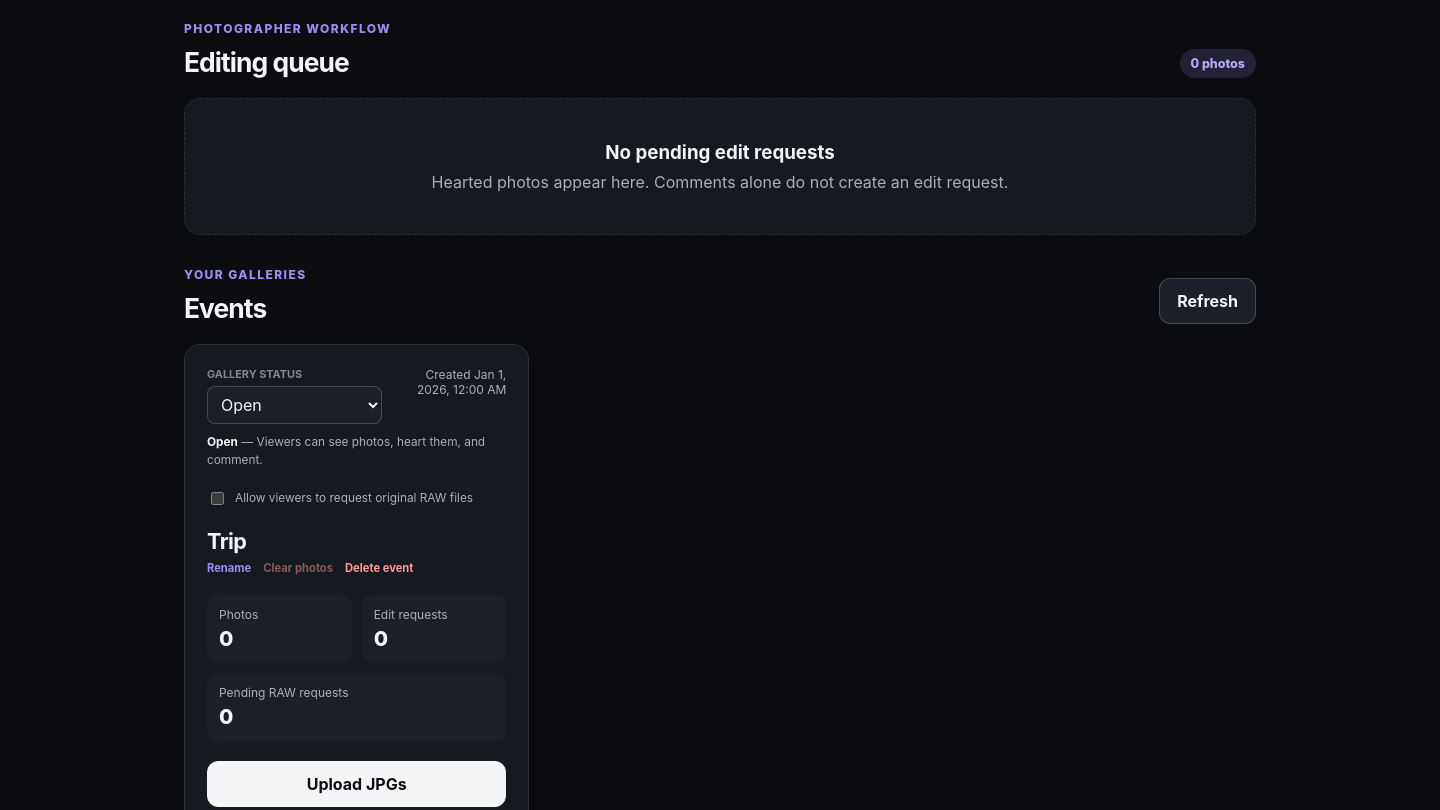
Scenario: DashboardPage › archives once the user confirms, sending the new status
This screenshot has width=1440, height=810.
(page scrolled)
Select "Archived" in the dropdown labelled "Gallery status" at (295, 405), box [207,386,382,424]
(page scrolled)
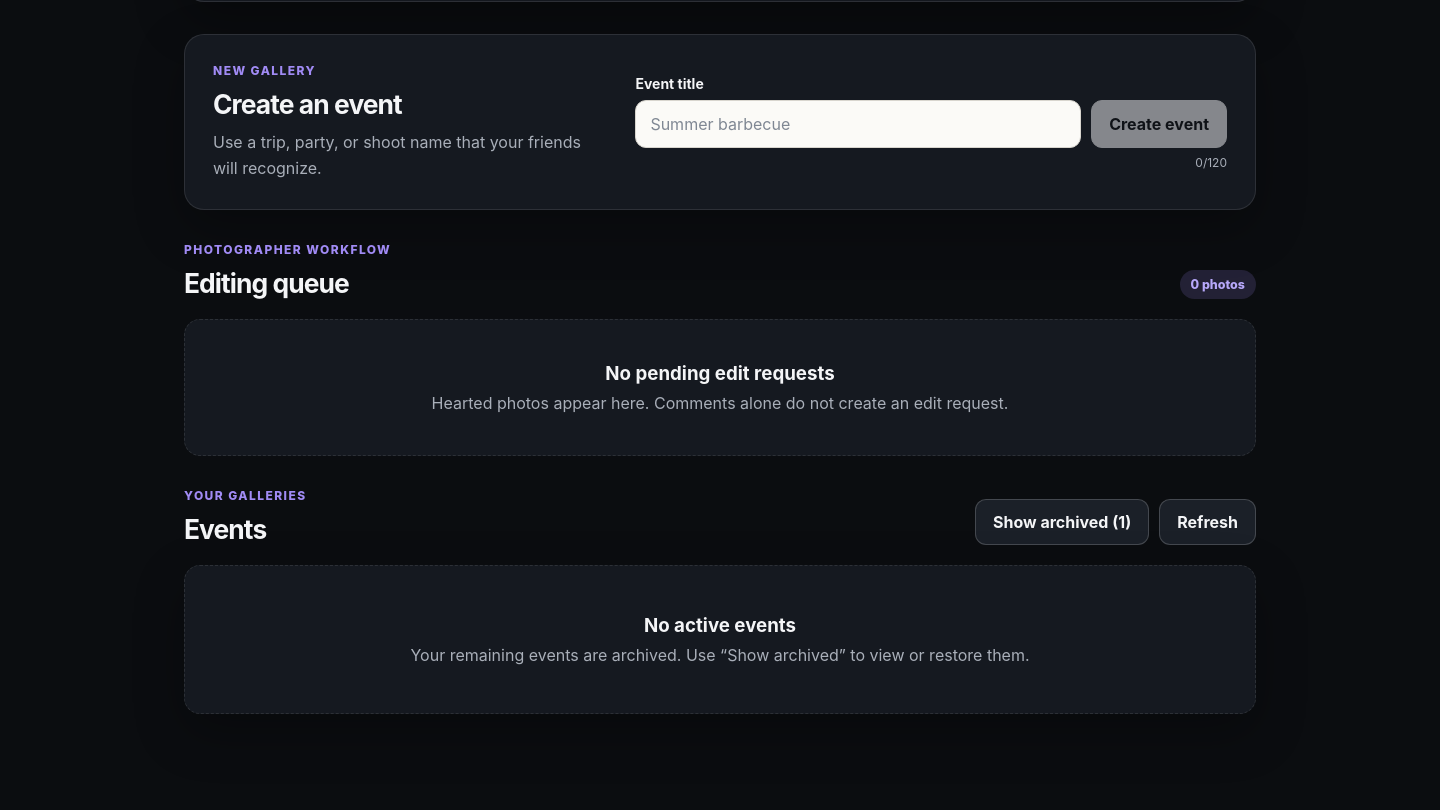
Expected: the button "Show archived (1)" is shown, [975,499,1149,545]
